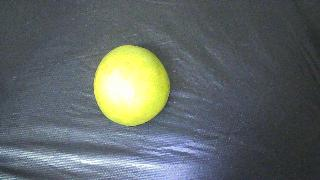LOCAL: (94, 45, 170, 126)
